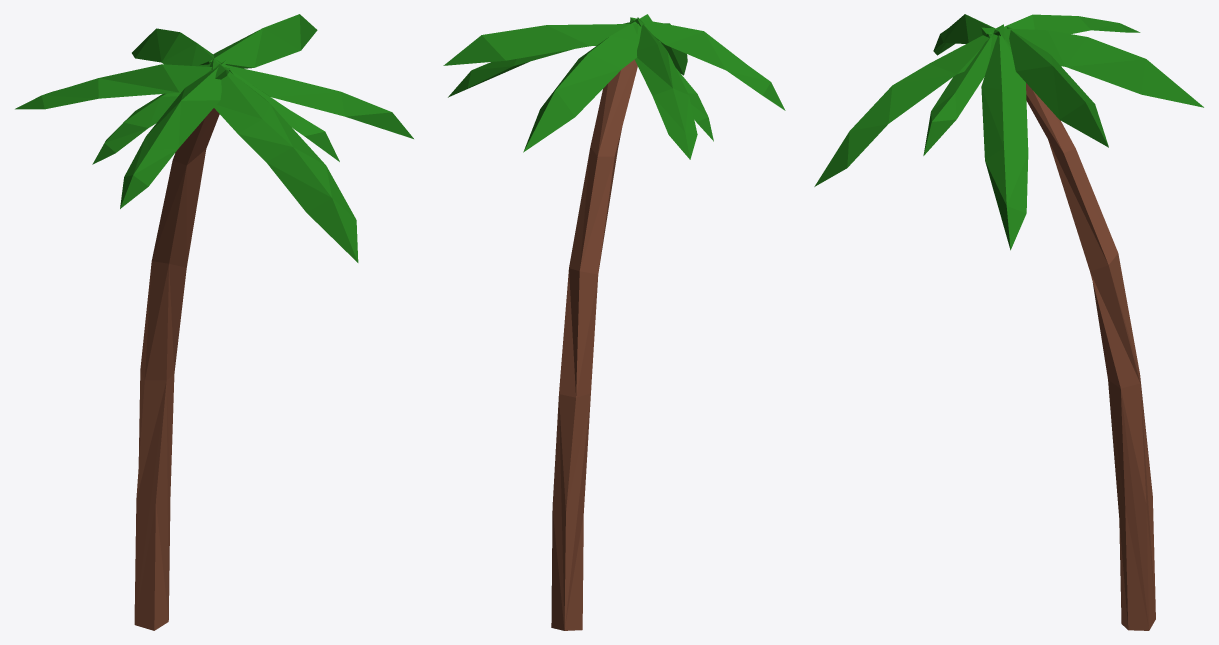
File: Palm_tree.fbx
3 renders of one model, left to right at view 1: azimuth 30°, elevation 25°; view 2: azimuth 150°, elevation 25°; view 3: azimuth 270°, elevation 25°, orthographic. The views are drawn at different scales.
Visible parts, largest first — view 1: Tree_09_summer_mat; view 2: Tree_09_summer_mat; view 3: Tree_09_summer_mat.
Part boxes in pixels (x1,y1,x2,y2): Tree_09_summer_mat: (15, 14, 413, 630); Tree_09_summer_mat: (443, 14, 785, 630); Tree_09_summer_mat: (814, 14, 1203, 630).
Bounding box in the file's own units: 1027 × 1820 × 1075.
